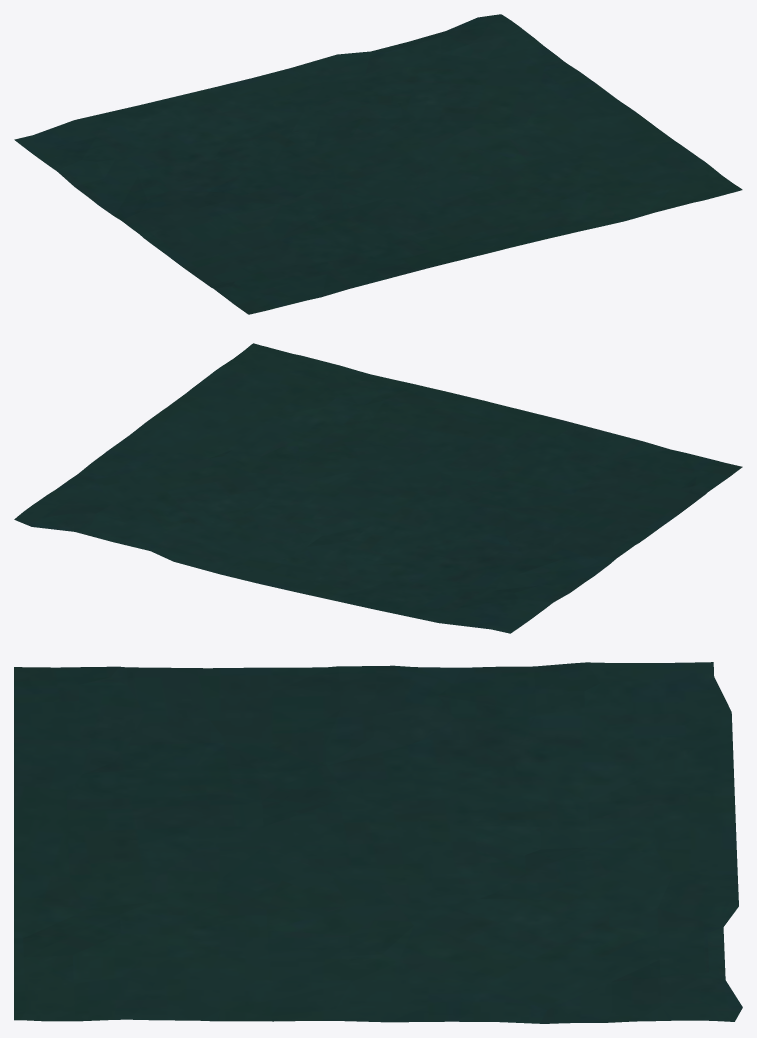
3 views of the same model, one above another, from view 1: azimuth 30°, elevation 25°; view 2: azimuth 150°, elevation 25°; view 3: azimuth 270°, elevation 25° (orthographic). The views are drawn at different scales.
Size of the model in its own units: 52.22 by 0.7058 by 44.74.
Materials: 2 (2 with a texture image).
